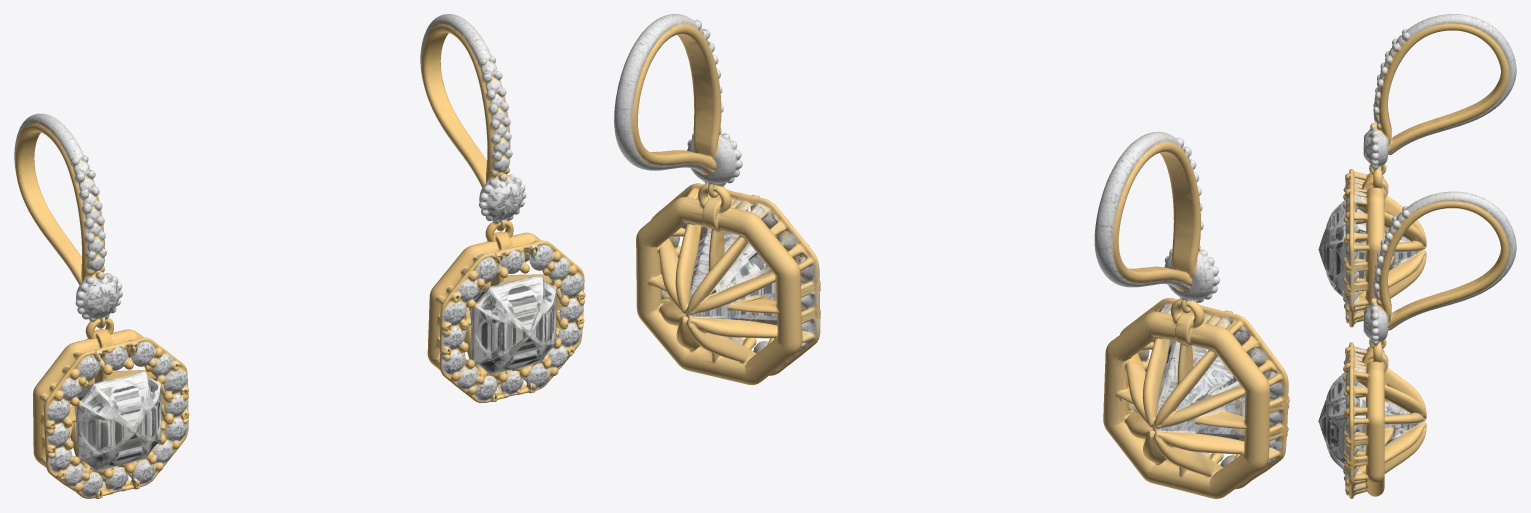
File: asscher-halo-drop-earrings-opt.glb
3 renders of one model, left to right at view 1: azimuth 30°, elevation 25°; view 2: azimuth 150°, elevation 25°; view 3: azimuth 270°, elevation 25°, orthographic. The views are drawn at different scales.
Visible parts, largest first — view 1: mesh_node; view 2: mesh_node; view 3: mesh_node.
Part boxes in pixels (x1,y1,x2,y2): mesh_node: (14,14,585,498); mesh_node: (614,14,1289,498); mesh_node: (1318,14,1516,498).
Bounding box in the file's own units: 1.9 × 1.12 × 0.6772.
Materials: 1 (1 with a texture image).
